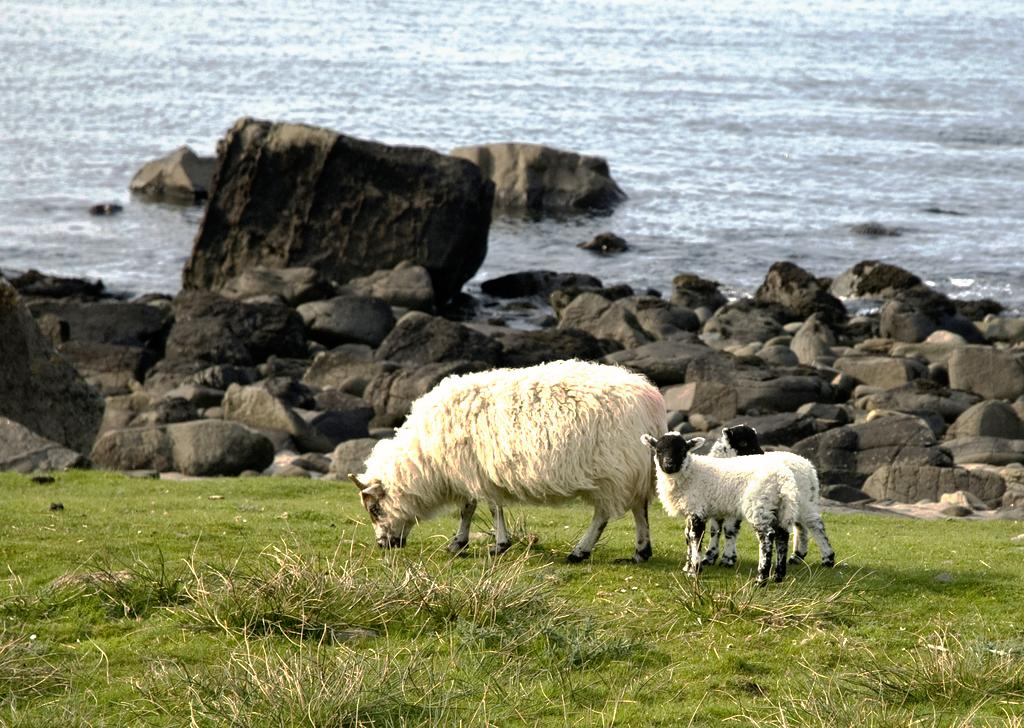Sheep: (348, 357, 666, 566), (642, 434, 802, 584), (708, 419, 829, 566)
